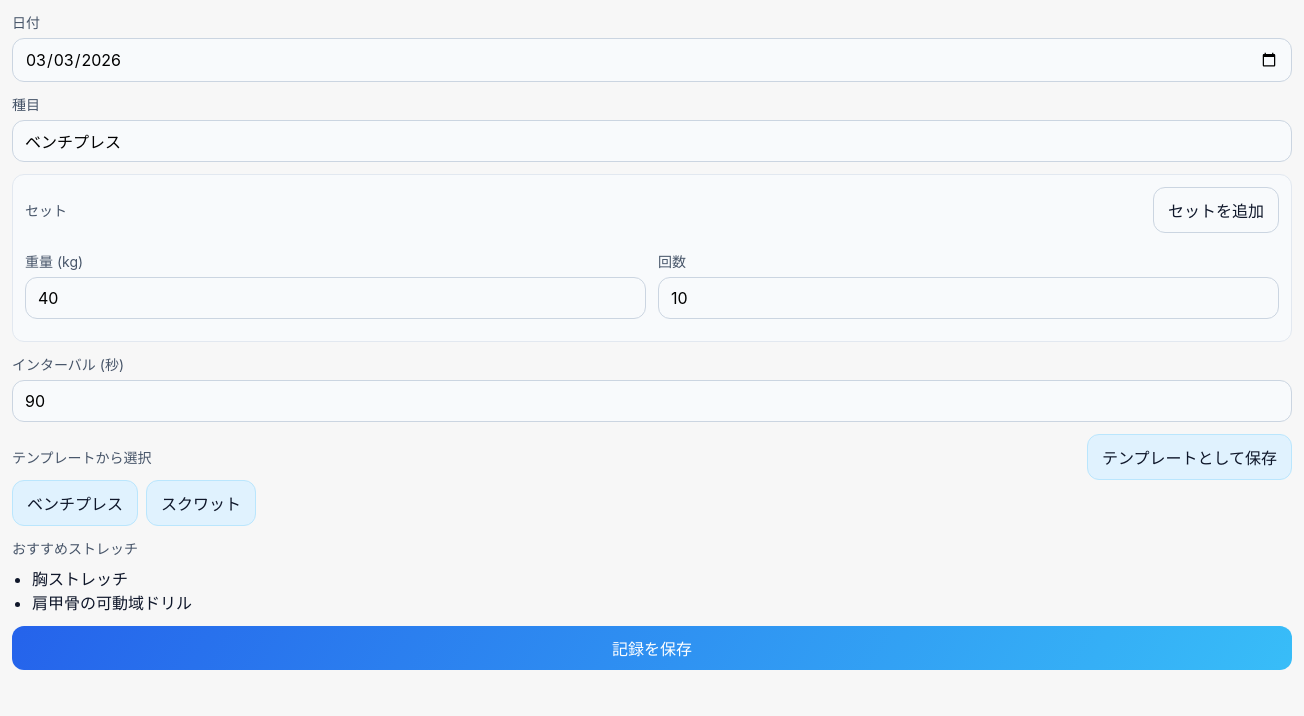
Test: TrainingLogForm Set Deletion › should not allow deleting the last remaining set
Click the button "セットを追加" at [1216, 210], box [1153,187,1279,233]
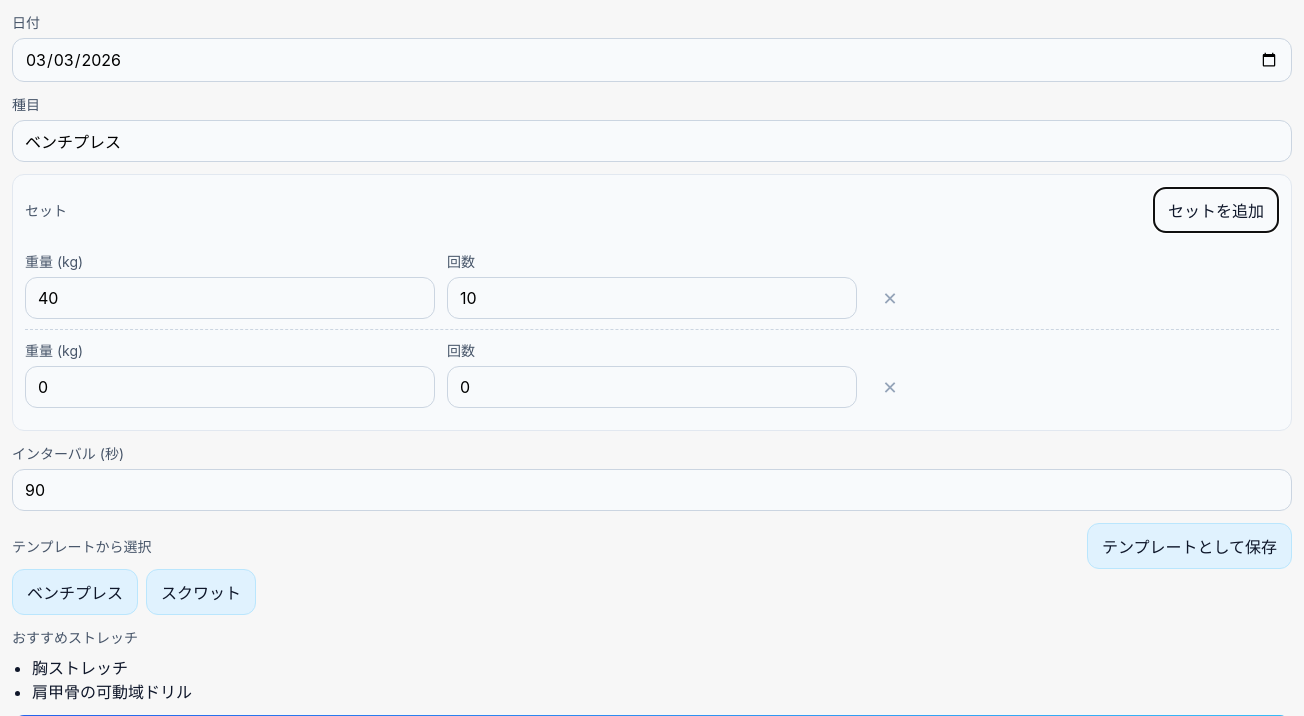
Click the button named "セットを削除" at [890, 298], box [869,277,911,319]
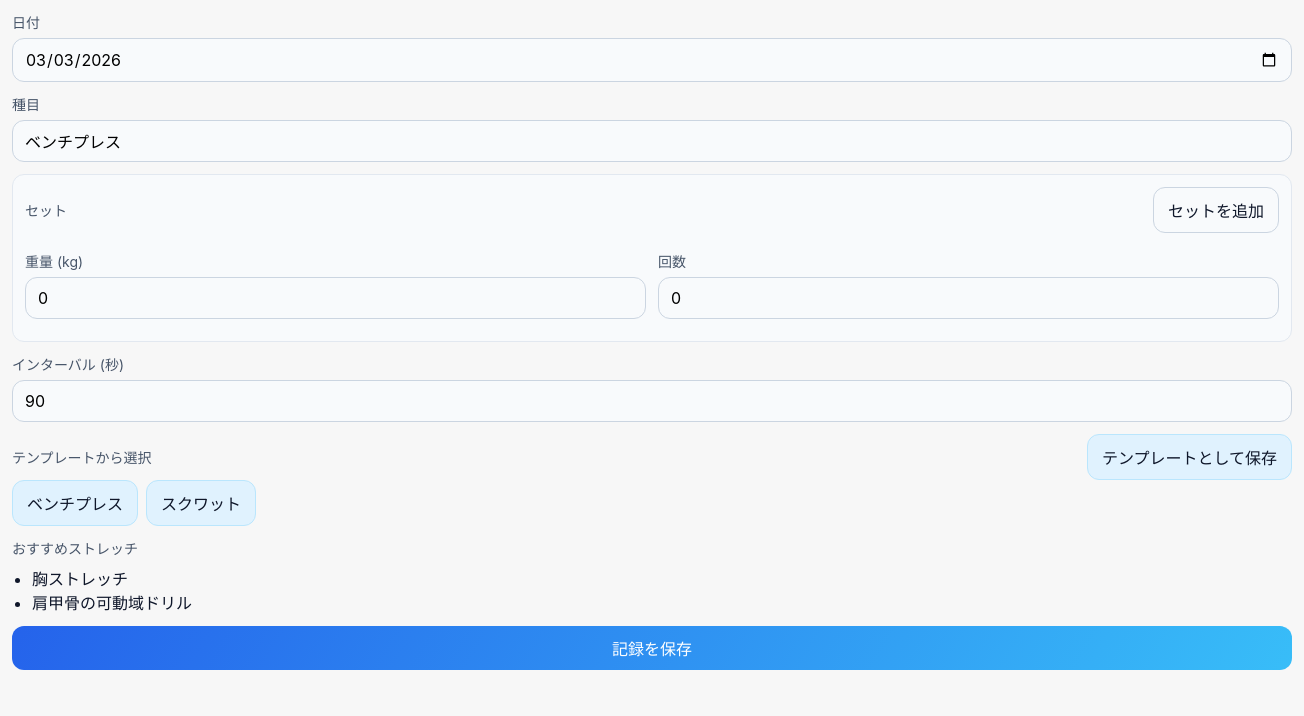
Result: no buttons labelled "セットを削除" are shown
